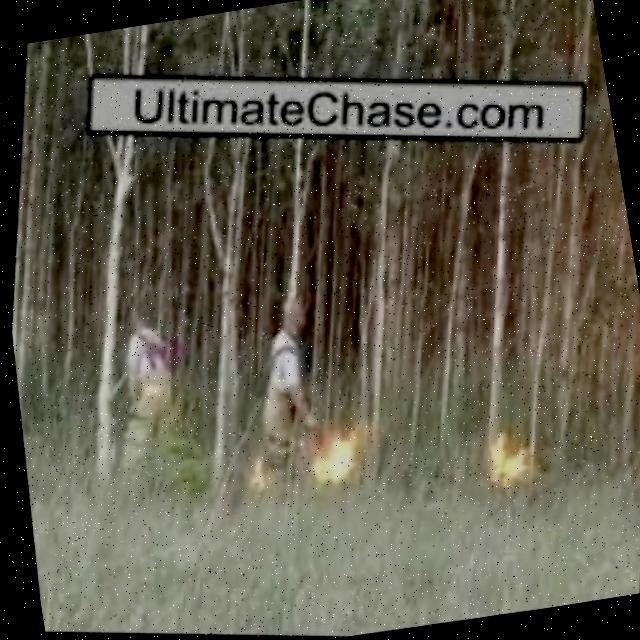fire: (478, 432, 542, 496), (301, 433, 363, 495), (238, 457, 273, 500)
